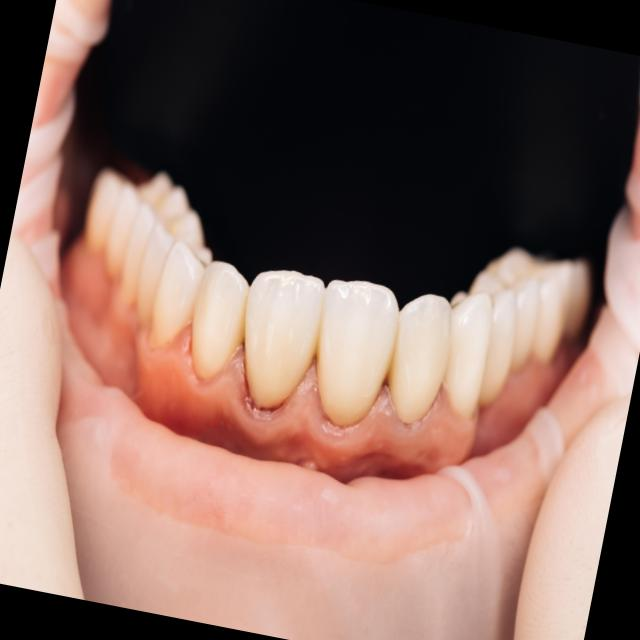Tooth: (316, 280, 399, 425), (245, 270, 326, 411), (387, 295, 452, 425), (191, 262, 249, 379), (150, 241, 212, 348), (442, 292, 493, 419)
